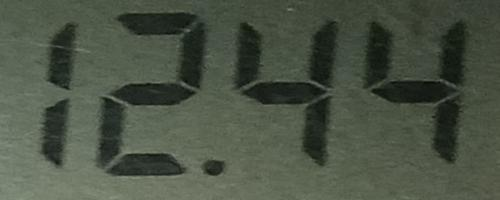.: (199, 157, 231, 183)
